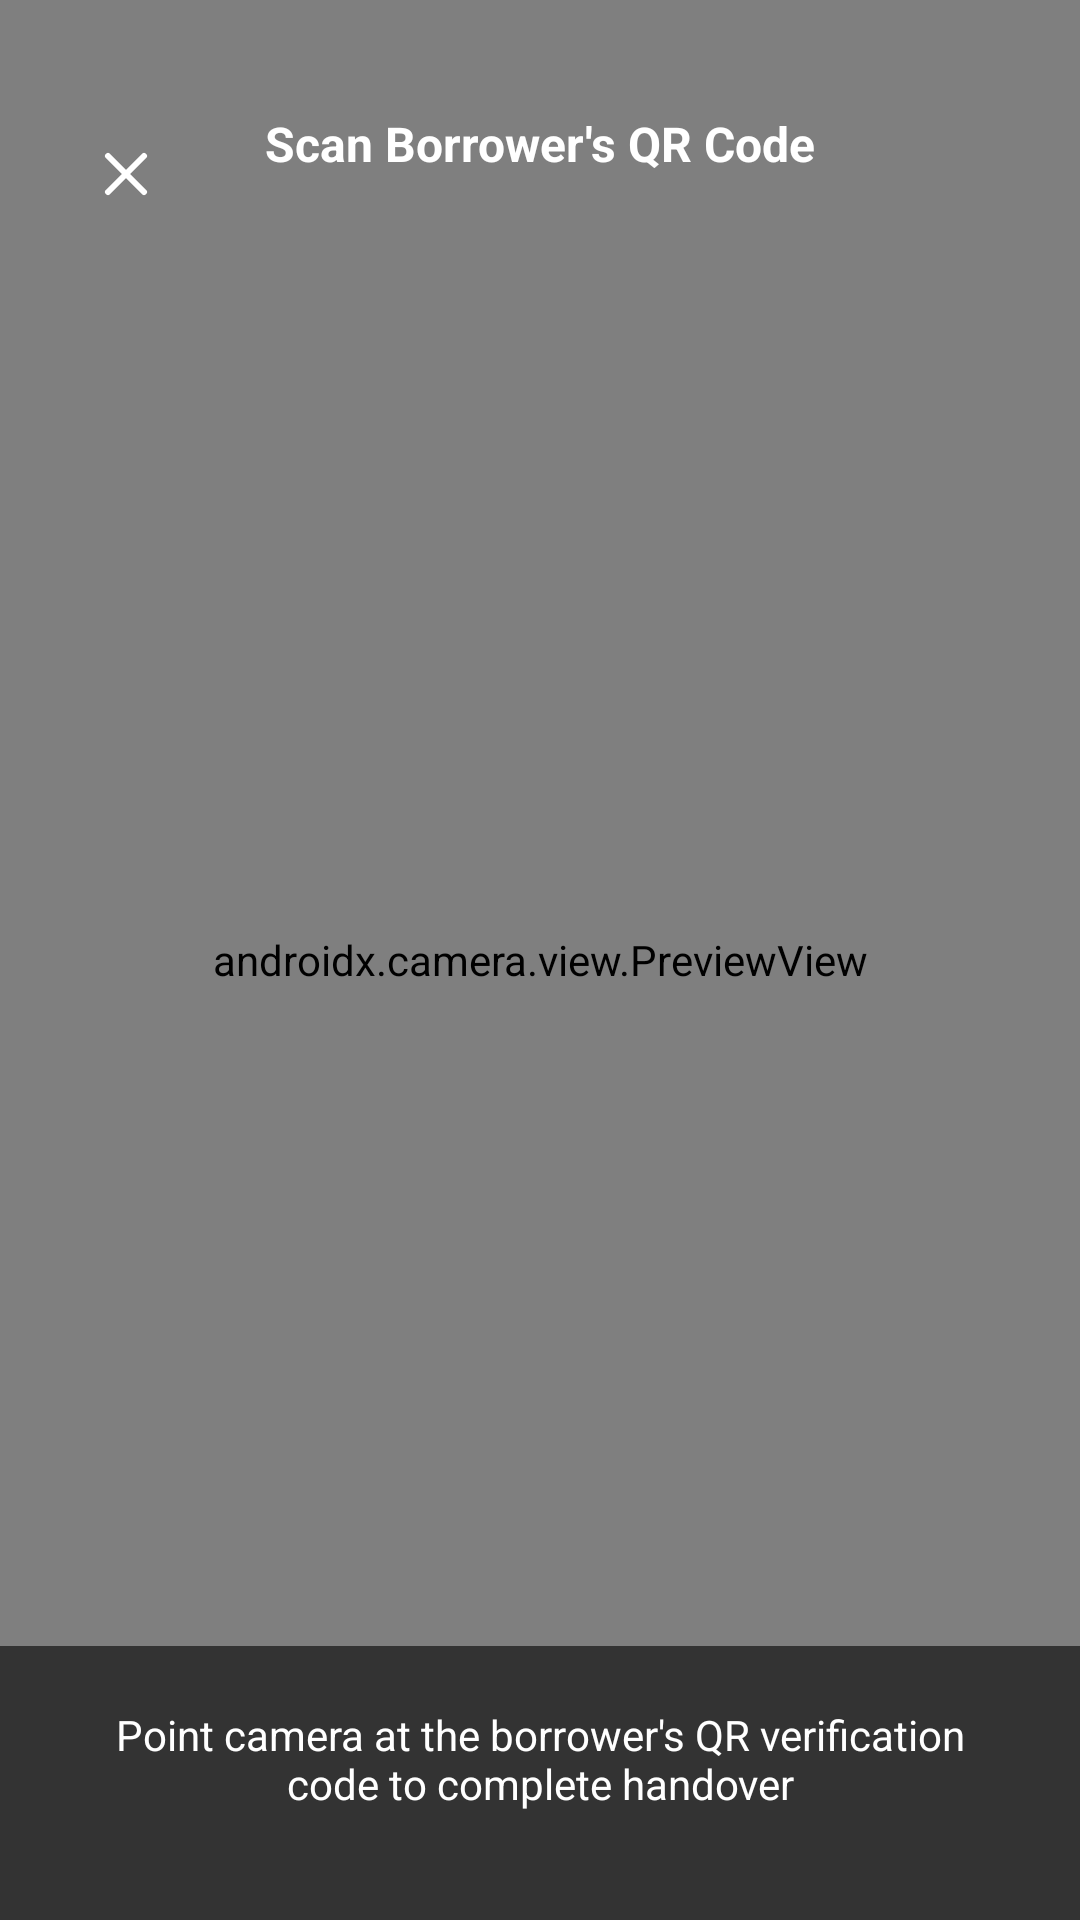

Screen size 1080px x 1920px. Icon name, then its center in pixels as [x,y]:
Close scanner: [126,174]
